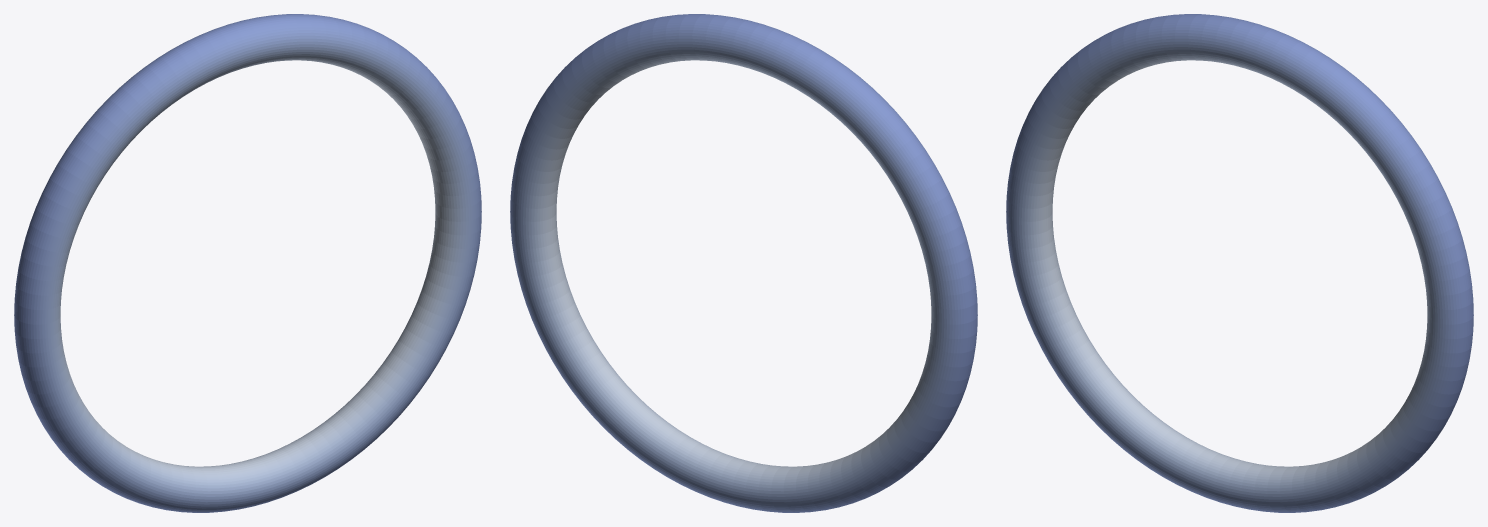
3 views of the same model, side by side, from view 1: azimuth 30°, elevation 25°; view 2: azimuth 150°, elevation 25°; view 3: azimuth 330°, elevation 25° (orthographic).
Visible parts, largest first — view 1: world; view 2: world; view 3: world.
Part boxes in pixels (x1=…): world: x1=14, y1=14, x2=481, y2=512; world: x1=510, y1=14, x2=977, y2=512; world: x1=1006, y1=14, x2=1473, y2=512.
Bounding box in the file's own units: 32.13 × 32.13 × 2.79.
